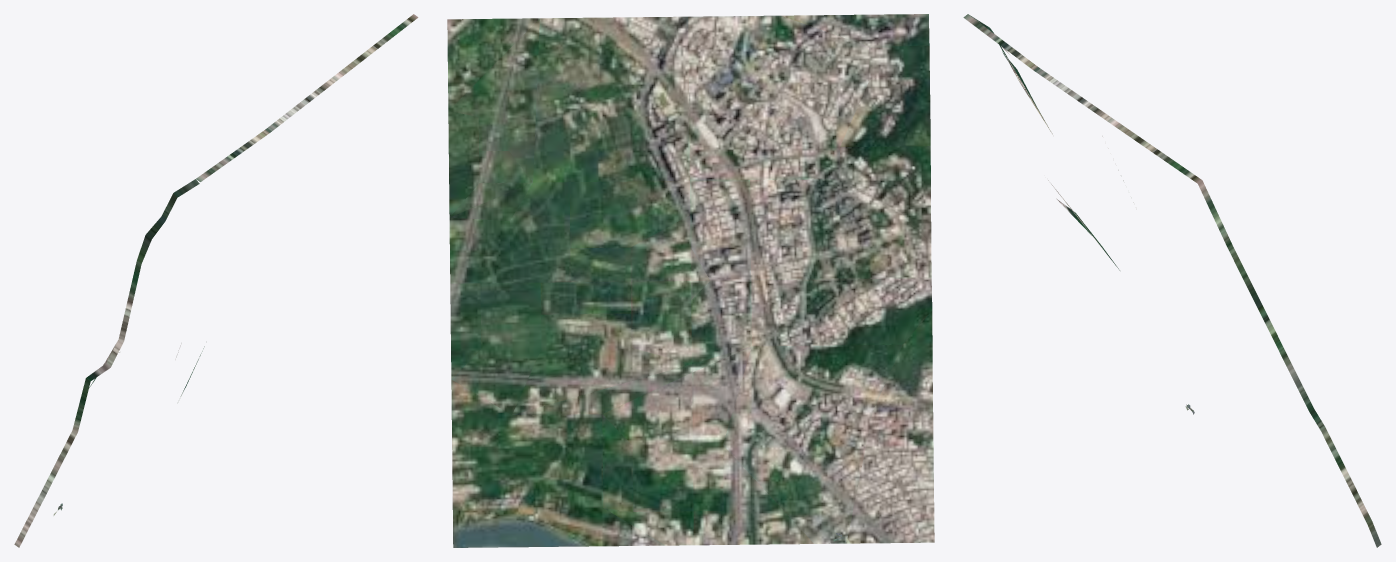
3 views of the same model, side by side, from view 1: azimuth 30°, elevation 25°; view 2: azimuth 150°, elevation 25°; view 3: azimuth 270°, elevation 25° (orthographic). The views are drawn at different scales.
Size of the model in its own units: 2445 by 2231 by 2040.
1 material, 1 textured.
